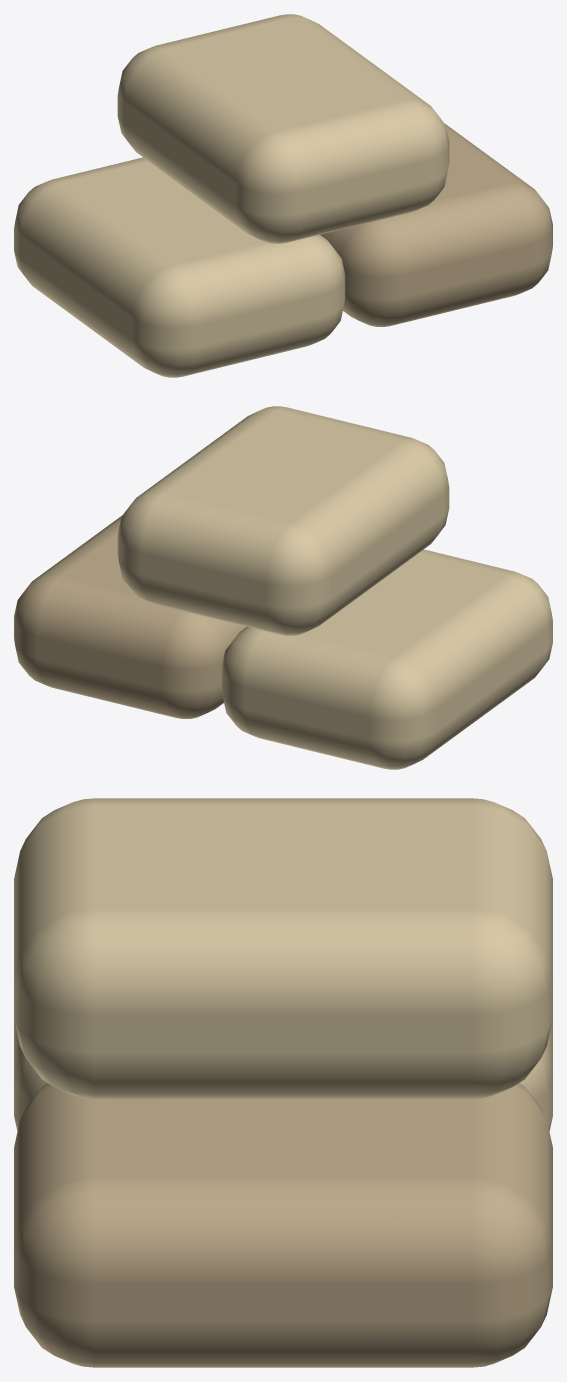
Rendered from sandbag.glb.
3 renders of one model, top to bottom at view 1: azimuth 30°, elevation 25°; view 2: azimuth 150°, elevation 25°; view 3: azimuth 270°, elevation 25°, orthographic. The views are drawn at different scales.
Parts seen in each view (by area): view 1: bag_3, bag_1, bag_2; view 2: bag_3, bag_1, bag_2; view 3: bag_3, bag_2, bag_1.
Part boxes in pixels (bbox=[...]): bag_3: bbox=[117, 14, 449, 243]; bag_1: bbox=[14, 157, 345, 377]; bag_2: bbox=[320, 123, 552, 326]; bag_3: bbox=[117, 406, 449, 635]; bag_1: bbox=[221, 549, 552, 769]; bag_2: bbox=[14, 515, 246, 718]; bag_3: bbox=[14, 798, 552, 1098]; bag_2: bbox=[14, 1083, 552, 1367]; bag_1: bbox=[14, 1019, 552, 1131].
Bounding box in the file's own units: 0.6 × 0.3 × 0.4.
